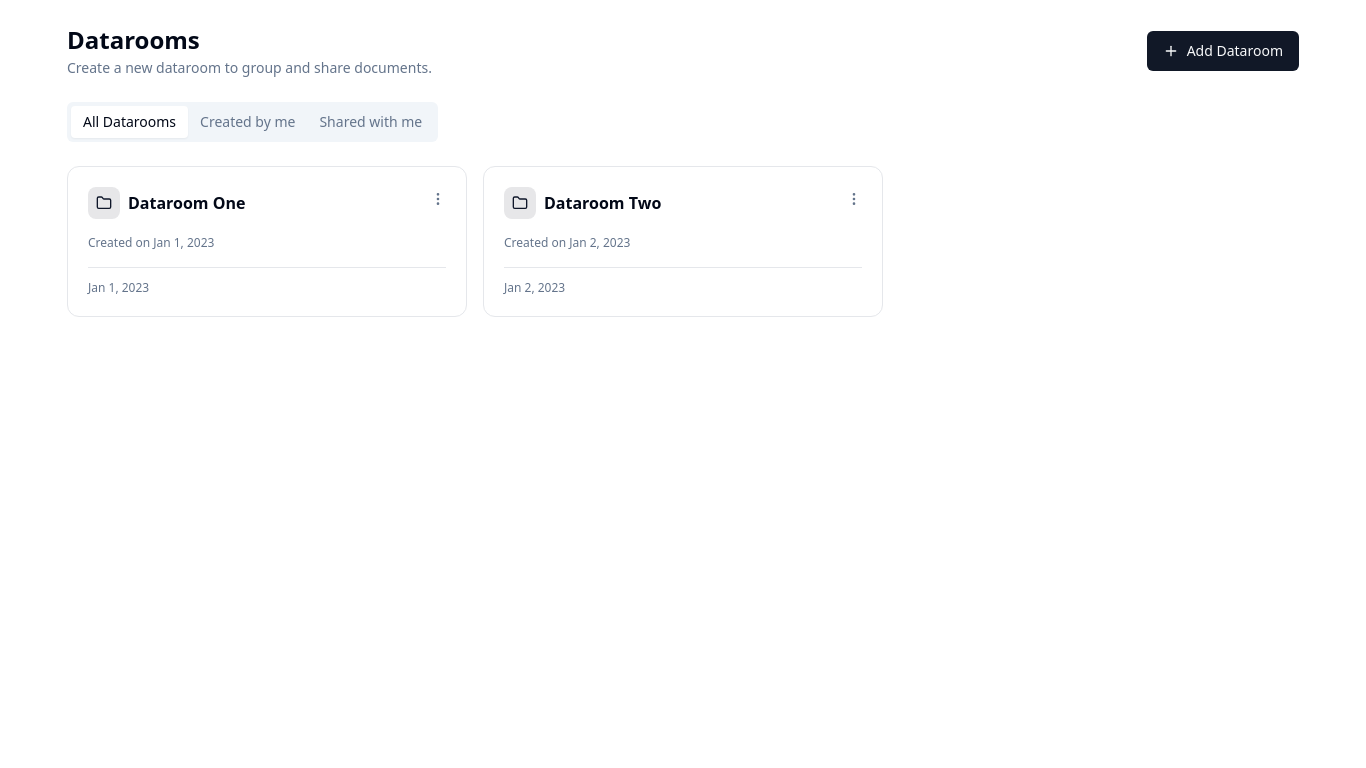
Test: DataroomsPage › Dataroom Actions › should open rename dialog when rename action is clicked
Click the 1st button named "Actions". click: click(438, 199)
box: [422,183,454,215]
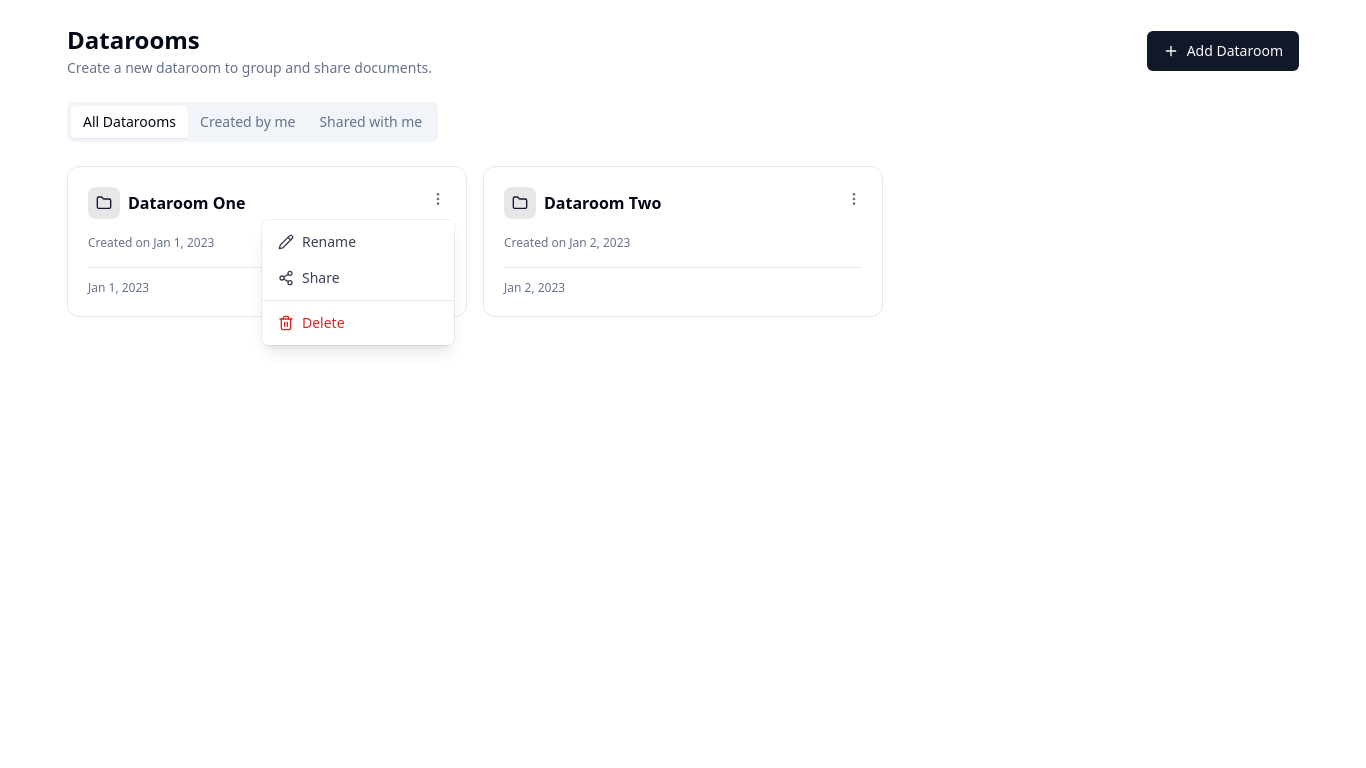
Click the menu item "Rename". click: click(317, 242)
box: [278,232,356,251]
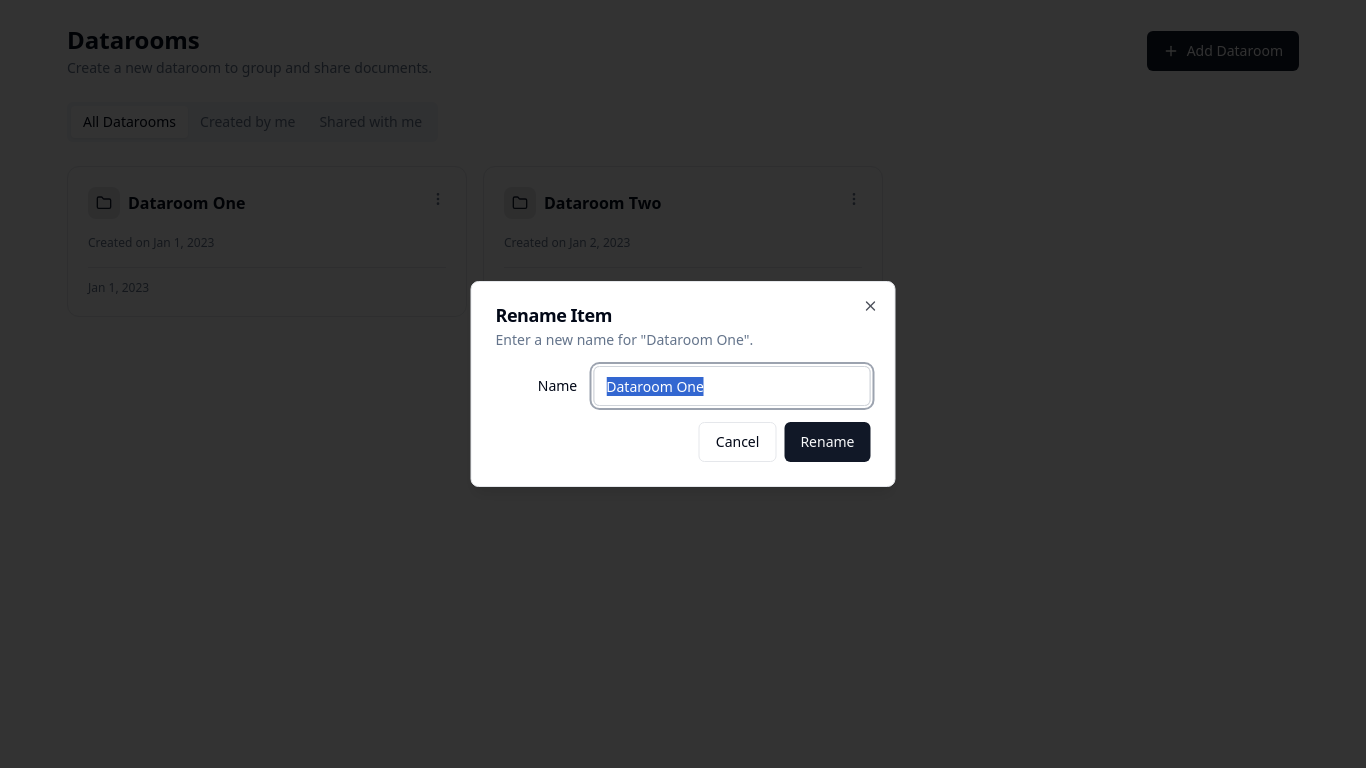
Expected: the heading "Rename Item" is shown, [496,303,612,327]
Expected: the field labelled "Name" holds "Dataroom One", [593,366,871,406]
